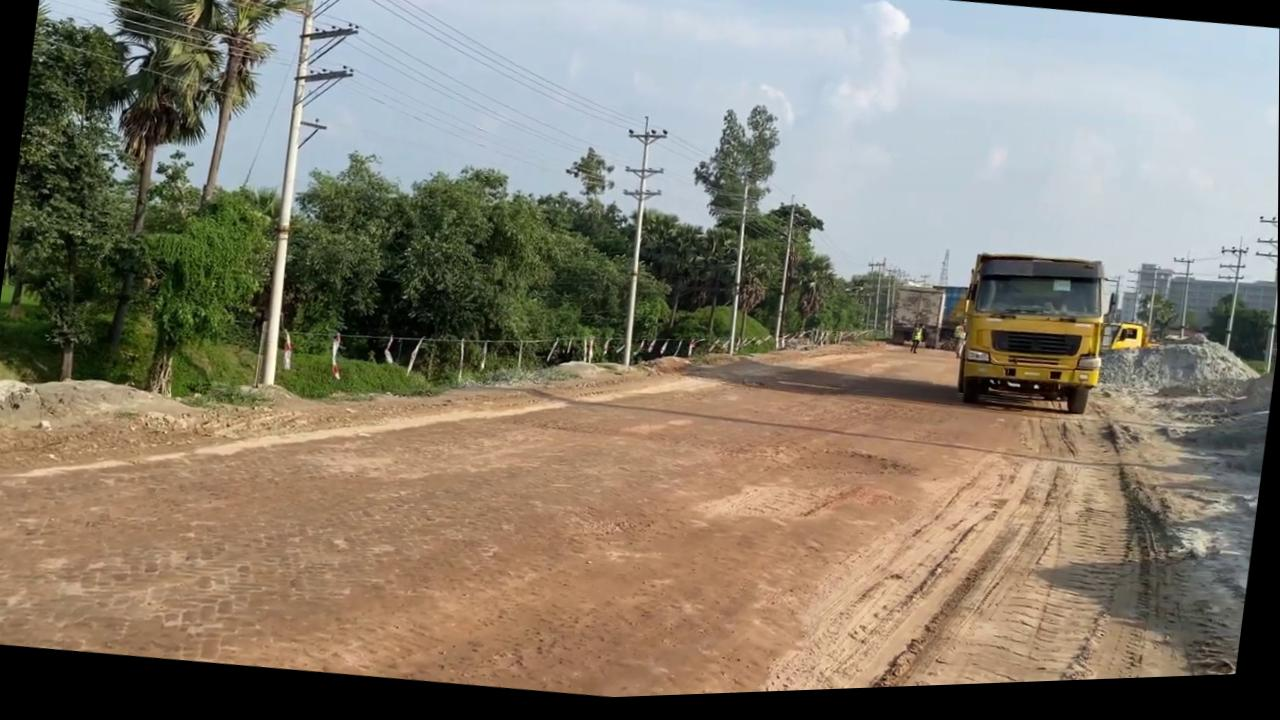Muddy road: (0, 227, 1271, 720)
Pole: (254, 0, 331, 391), (771, 200, 801, 355)
Traffic-sign: (55, 0, 238, 368), (670, 101, 785, 363)
Tree: (941, 249, 1121, 429), (888, 285, 969, 361), (1099, 296, 1155, 364), (937, 291, 970, 358), (1102, 326, 1151, 364)
